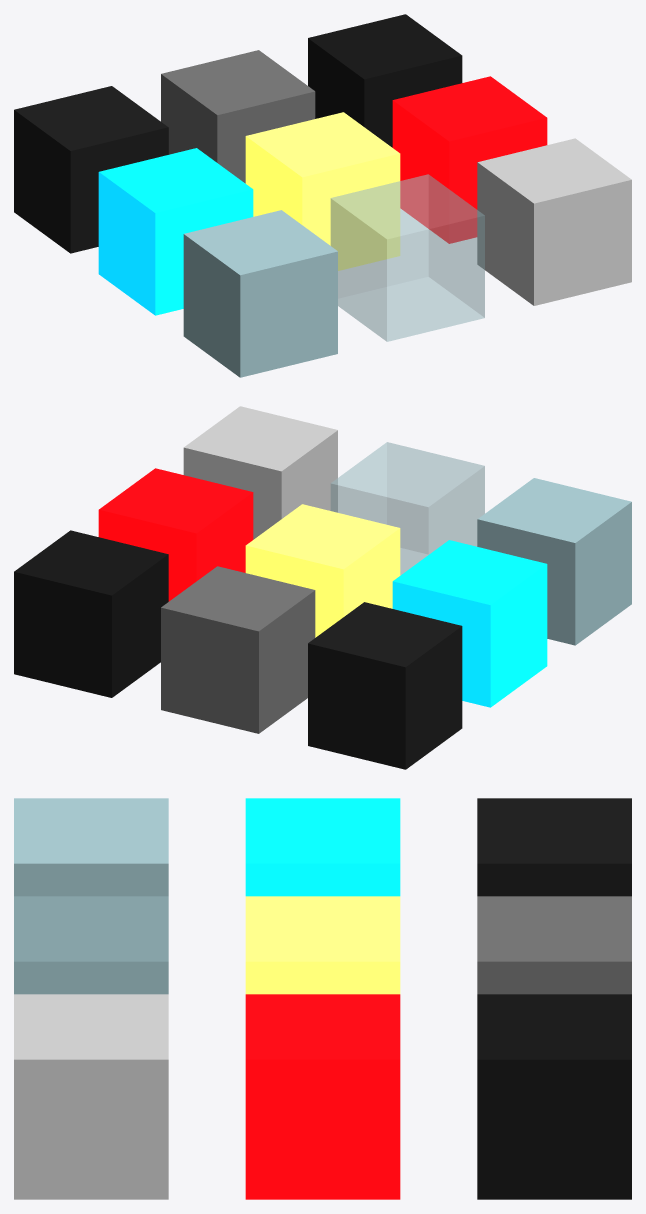
File: materials.glb
The picture shows the model from 3 angles, top to bottom: view 1: azimuth 30°, elevation 25°; view 2: azimuth 150°, elevation 25°; view 3: azimuth 270°, elevation 25°; orthographic projection. The views are drawn at different scales.
Parts seen in each view (by area): view 1: Cube.008, Cube.007, Cube.006, Cube, Cube.002, Cube.005, Cube.001, Cube.003, Cube.004; view 2: Cube.005, Cube.004, Cube.003, Cube.002, Cube.008, Cube.007, Cube, Cube.001, Cube.006; view 3: Cube.001, Cube.004, Cube.007, Cube.008, Cube, Cube.002, Cube.003, Cube.005, Cube.006.
Boxes of the visible parts, <box> form: Cube.008: <box>183,210,337,377</box>; Cube.007: <box>477,138,631,305</box>; Cube.006: <box>330,174,484,341</box>; Cube: <box>245,112,400,270</box>; Cube.002: <box>98,148,253,315</box>; Cube.005: <box>14,86,168,253</box>; Cube.001: <box>392,76,547,243</box>; Cube.003: <box>161,50,315,183</box>; Cube.004: <box>308,14,462,147</box>; Cube.005: <box>308,602,462,769</box>; Cube.004: <box>14,530,168,697</box>; Cube.003: <box>161,566,315,733</box>; Cube.002: <box>392,540,547,707</box>; Cube.008: <box>477,478,631,645</box>; Cube.007: <box>183,406,337,539</box>; Cube: <box>245,504,400,637</box>; Cube.001: <box>98,468,253,601</box>; Cube.006: <box>330,442,484,575</box>; Cube.001: <box>245,994,400,1199</box>; Cube.004: <box>477,994,631,1199</box>; Cube.007: <box>14,994,168,1199</box>; Cube.008: <box>14,798,168,994</box>; Cube: <box>245,896,400,994</box>; Cube.002: <box>245,798,400,896</box>; Cube.003: <box>477,896,631,994</box>; Cube.005: <box>477,798,631,896</box>; Cube.006: <box>14,896,168,994</box>.
Bounding box in the file's own units: 8 × 2 × 8.
